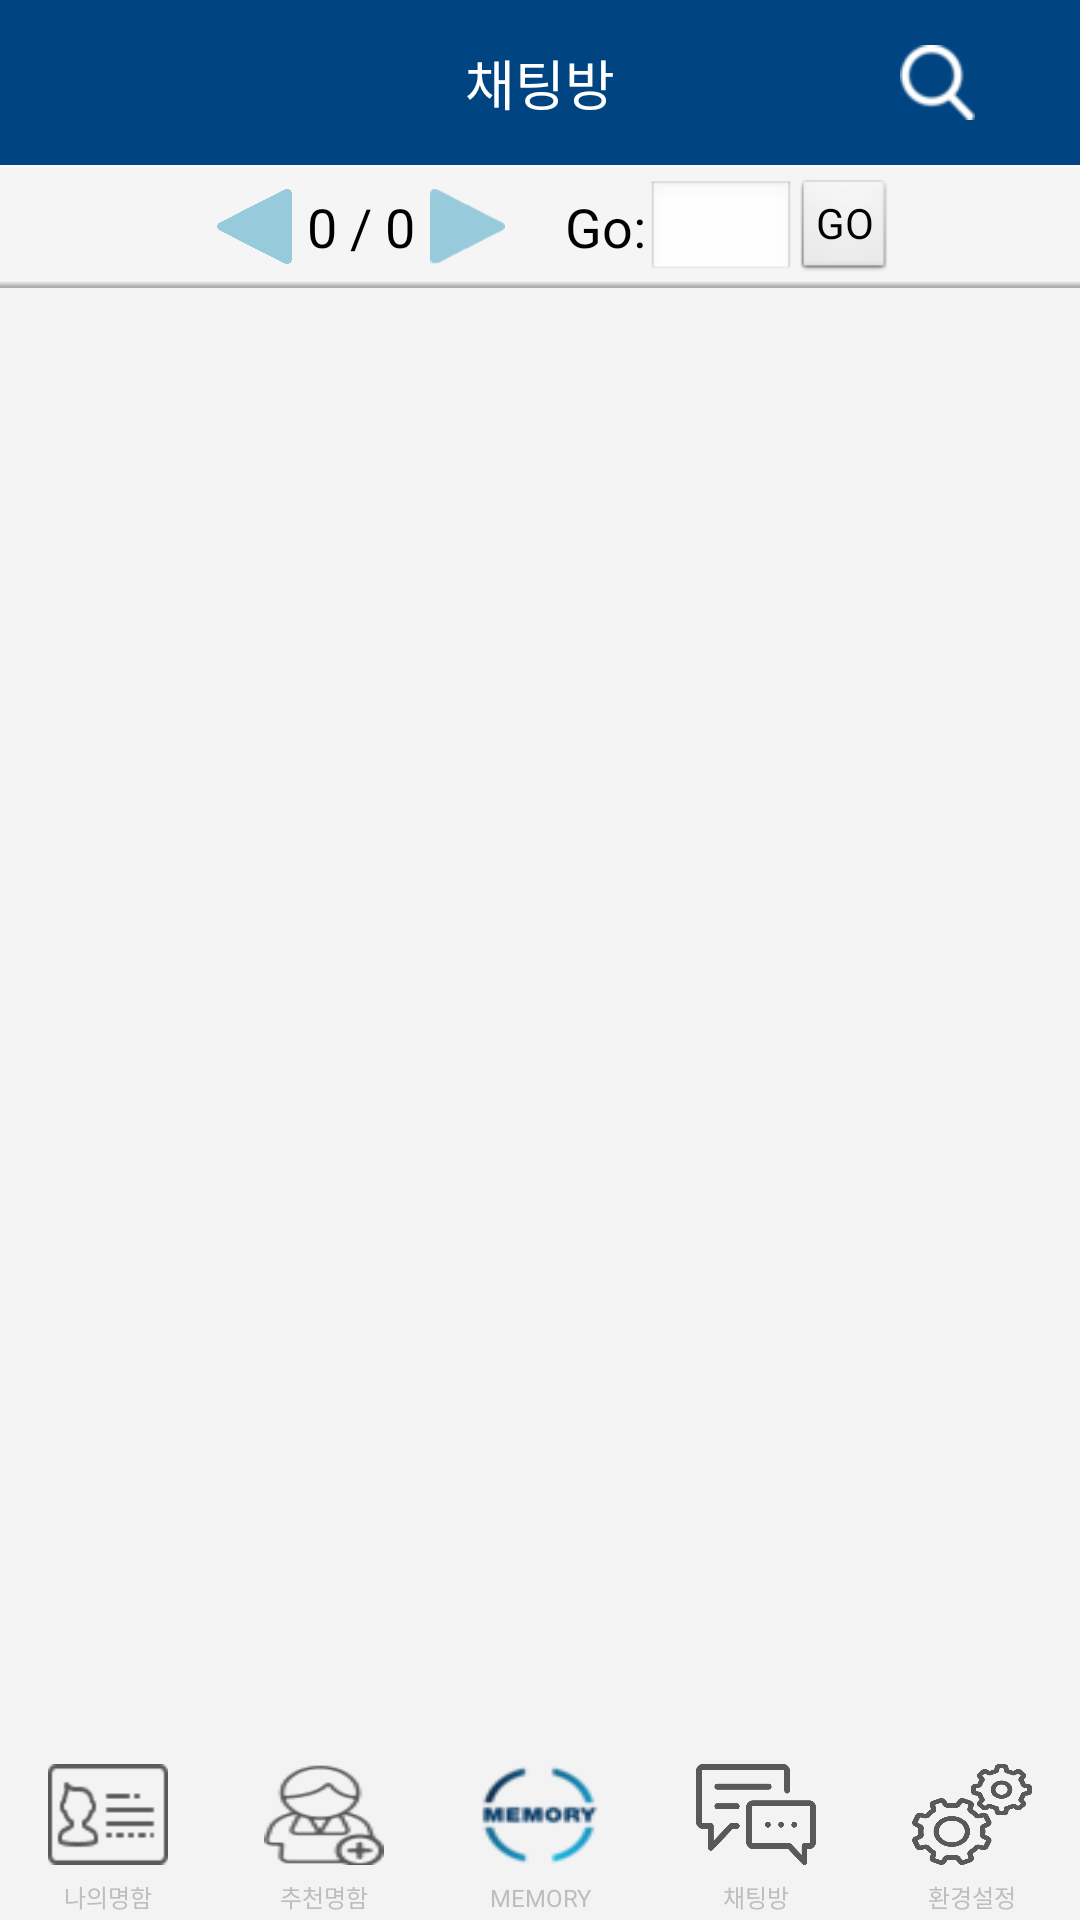

Icon bounding boxes for this 1080x1920 phone screenshot, format (x1, y1, x2, y2):
left: (217, 189, 292, 264)
right: (430, 189, 505, 263)
search: (900, 45, 975, 120)
system: (912, 1764, 1032, 1865)
